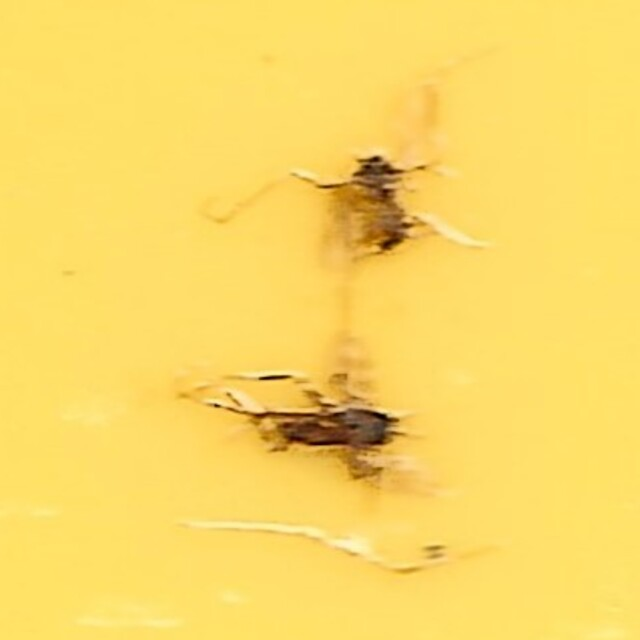Nematocera: (201, 353, 431, 484), (265, 156, 439, 271)
